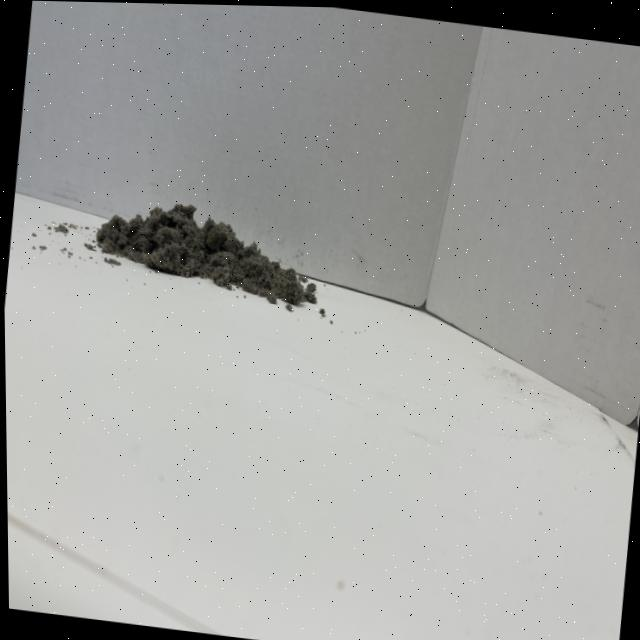sand: (98, 185, 310, 308)
